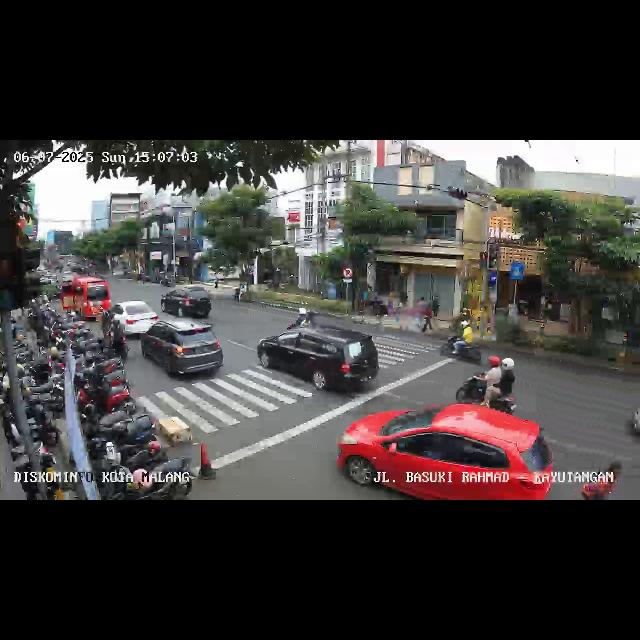car: (336, 402, 554, 500), (256, 326, 389, 398), (141, 321, 225, 382), (61, 276, 111, 320), (109, 298, 159, 338), (161, 284, 213, 322)
motorcycle: (456, 356, 518, 414), (439, 319, 487, 367), (97, 313, 129, 362), (290, 304, 312, 328)
person: (419, 296, 435, 334)
